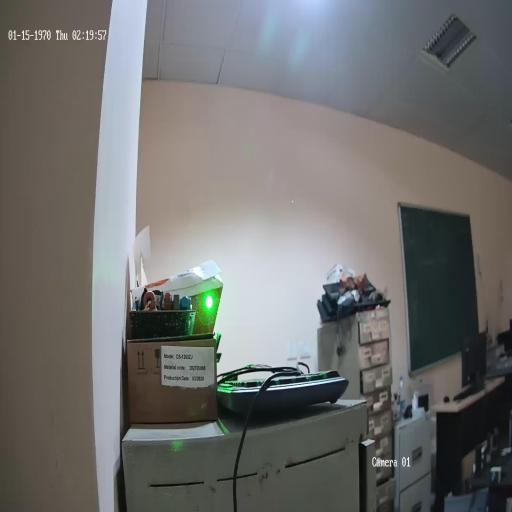laser: (202, 291, 214, 313)
